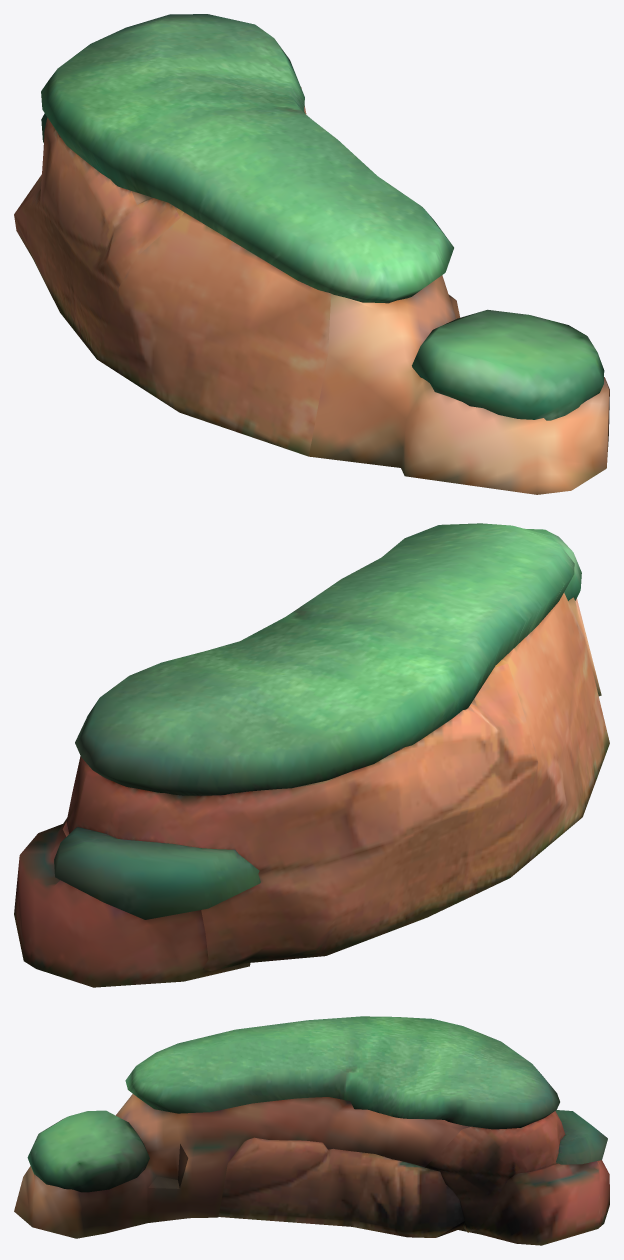
File: pref_sm_4v4beachtech_bk_centerblock_R01b_lv1.fbx
3 views of the same model, one above another, from view 1: azimuth 30°, elevation 25°; view 2: azimuth 150°, elevation 25°; view 3: azimuth 270°, elevation 25° (orthographic). The views are drawn at different scales.
Parts seen in each view (by area): view 1: sm_4v4beachtech_bk_centerblock_R01b_lv1; view 2: sm_4v4beachtech_bk_centerblock_R01b_lv1; view 3: sm_4v4beachtech_bk_centerblock_R01b_lv1.
Boxes of the visible parts, x1,y1,x2,y2 form: sm_4v4beachtech_bk_centerblock_R01b_lv1: (14, 14, 609, 494); sm_4v4beachtech_bk_centerblock_R01b_lv1: (14, 523, 609, 987); sm_4v4beachtech_bk_centerblock_R01b_lv1: (14, 1016, 609, 1245).
Bounding box in the file's own units: 3.16 × 2.07 × 7.71.
